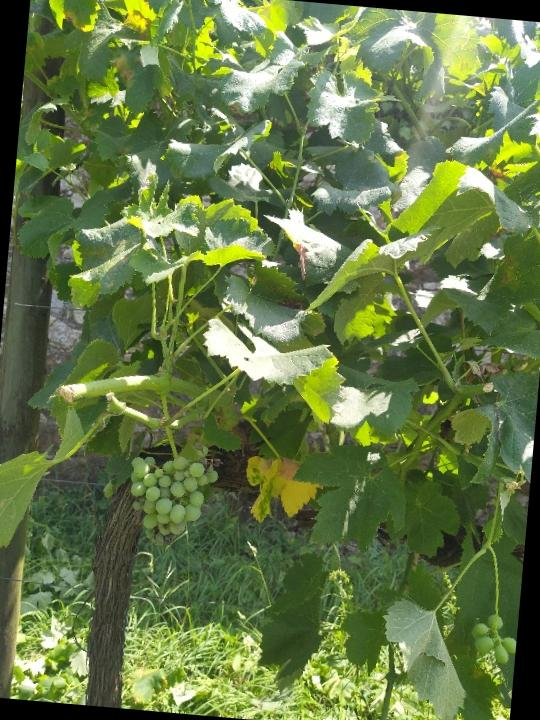grape: (122, 450, 222, 553)
